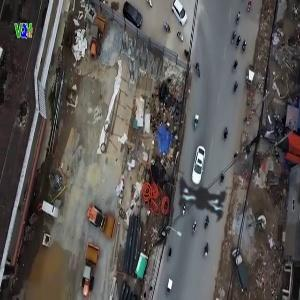drone: (135, 126, 273, 264)
